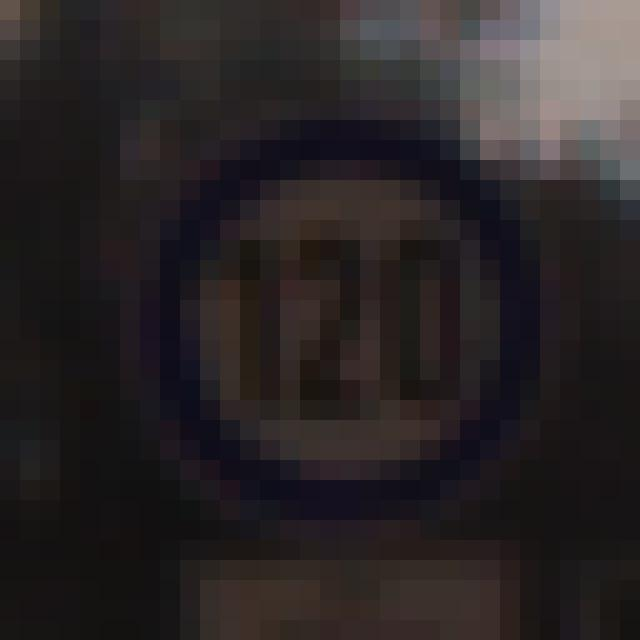SPEED LIMIT 120: (171, 141, 549, 515)
